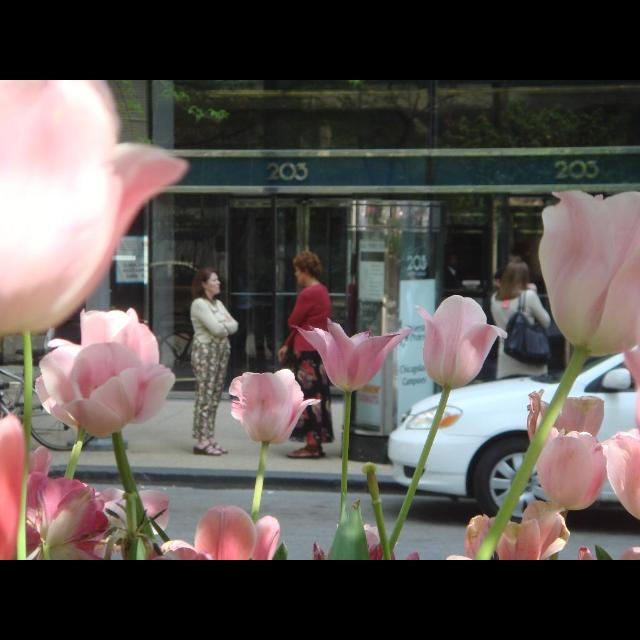Flower: (0, 80, 188, 336), (1, 305, 170, 559), (449, 392, 639, 560), (538, 190, 640, 358), (292, 317, 413, 395), (416, 294, 506, 388), (230, 366, 322, 444), (149, 505, 281, 559), (28, 474, 114, 556), (362, 521, 398, 559)
